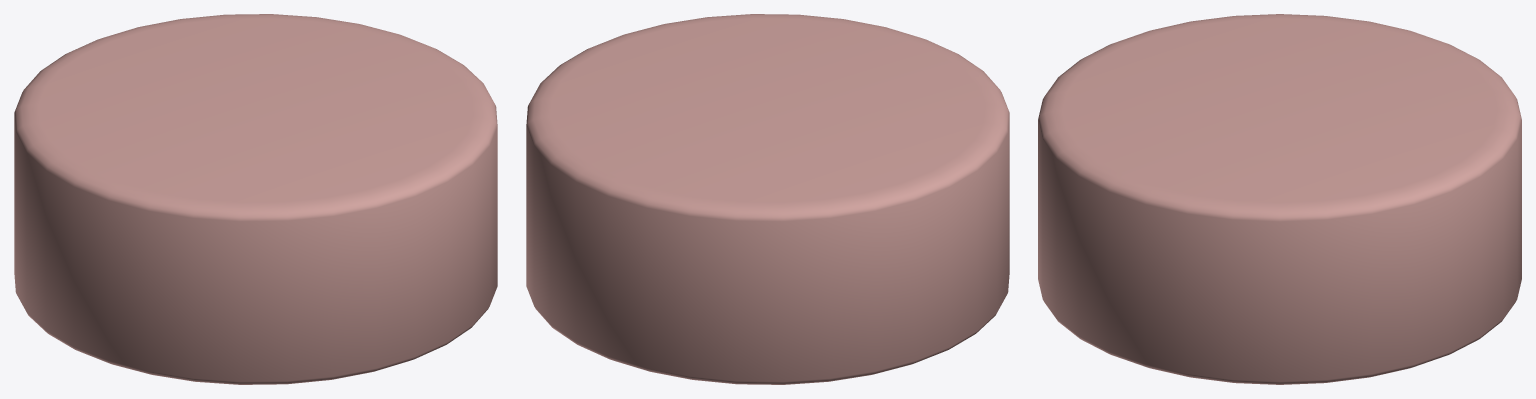
Rendered from outerfrosting_14.glb.
3 views of the same model, side by side, from view 1: azimuth 30°, elevation 25°; view 2: azimuth 150°, elevation 25°; view 3: azimuth 270°, elevation 25° (orthographic).
Visible parts, largest first — view 1: 14_OuterFrosting; view 2: 14_OuterFrosting; view 3: 14_OuterFrosting.
Part boxes in pixels (box(x1,y1,x2,y2)): 14_OuterFrosting: box(14, 14, 497, 384); 14_OuterFrosting: box(526, 14, 1009, 384); 14_OuterFrosting: box(1038, 14, 1521, 384).
Size of the model in its own units: 0.37 by 0.15 by 0.37.
